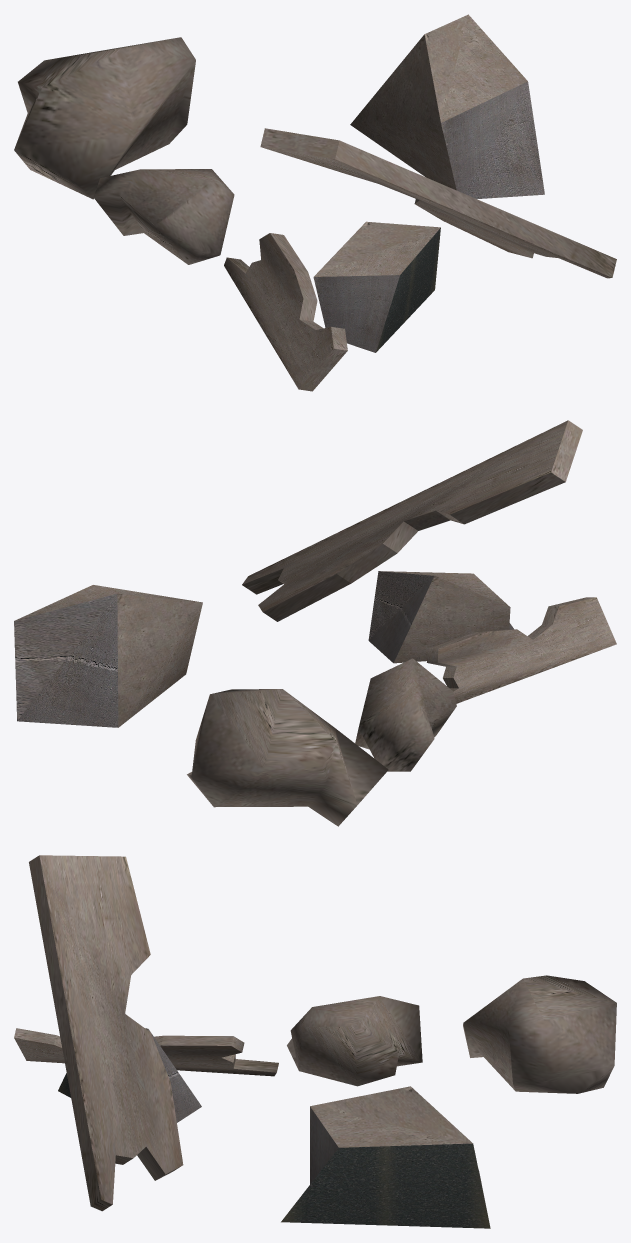
Rendered from M2_Zone4_FlyOver_Tunnel_D.glb.
3 renders of one model, top to bottom at view 1: azimuth 30°, elevation 25°; view 2: azimuth 150°, elevation 25°; view 3: azimuth 270°, elevation 25°, orthographic. The views are drawn at different scales.
Visible parts, largest first — view 1: M2_ZONE4_FLYOVER_TUNNEL_D; view 2: M2_ZONE4_FLYOVER_TUNNEL_D; view 3: M2_ZONE4_FLYOVER_TUNNEL_D.
Boxes of the visible parts, <box> form: M2_ZONE4_FLYOVER_TUNNEL_D: <box>14,14,616,391</box>; M2_ZONE4_FLYOVER_TUNNEL_D: <box>14,420,616,826</box>; M2_ZONE4_FLYOVER_TUNNEL_D: <box>14,855,616,1228</box>.
Size of the model in its own units: 10.68 by 5.87 by 14.51.
Materials: 6 (6 with a texture image).
